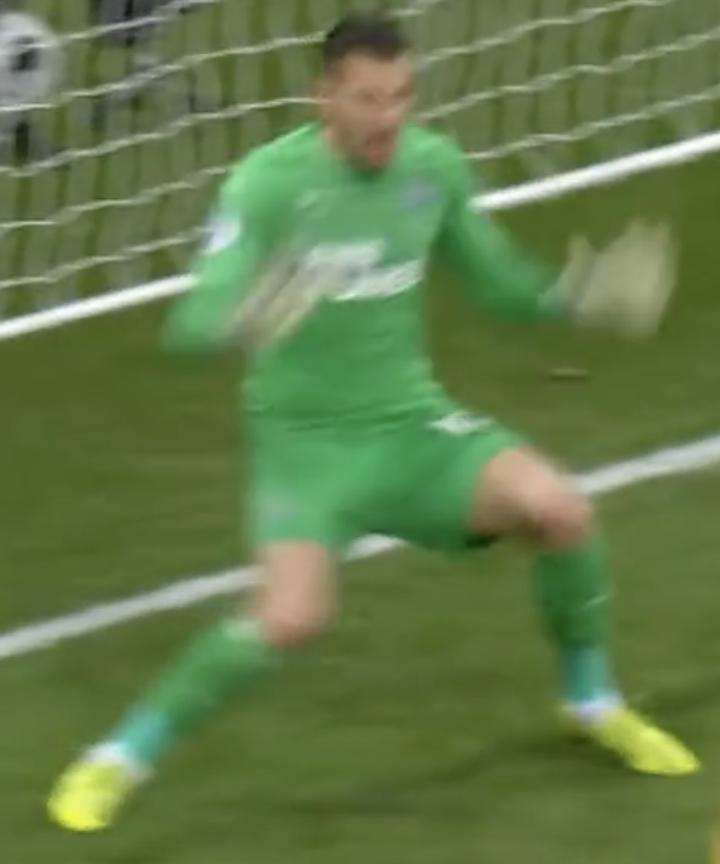goalkeeper: (18, 10, 720, 864)
